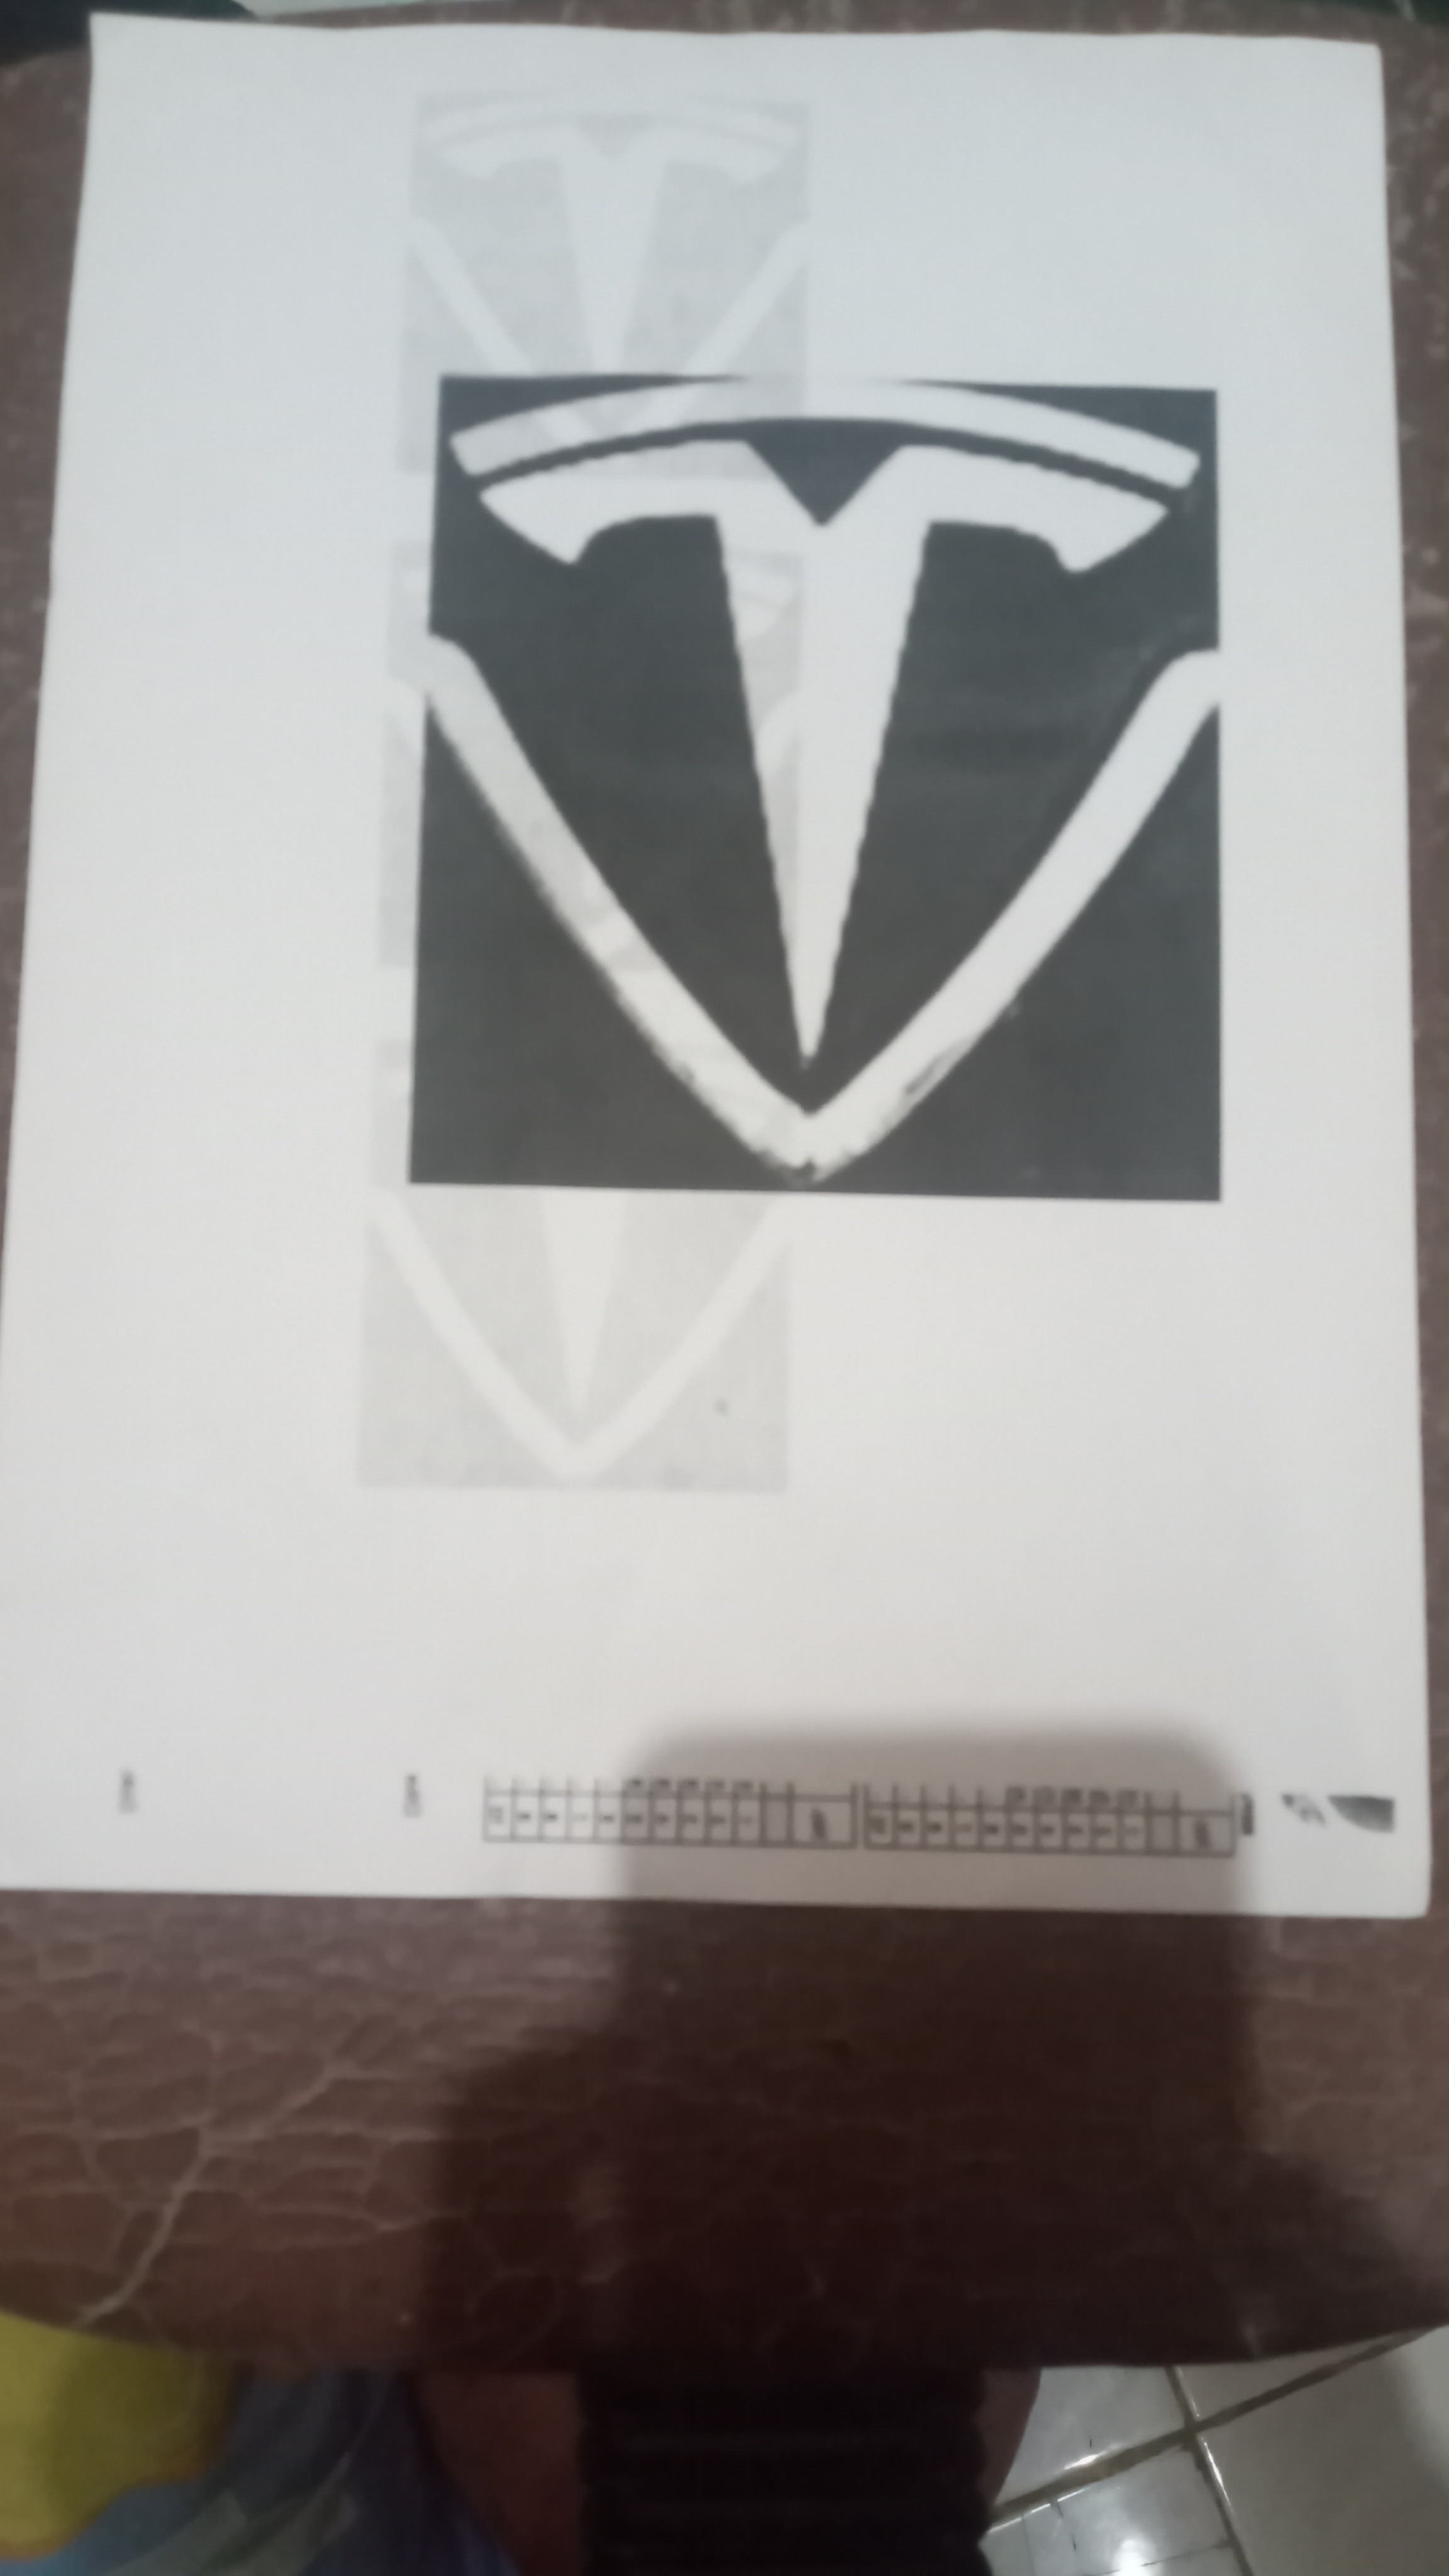Tesla: (423, 372, 1228, 1187)
